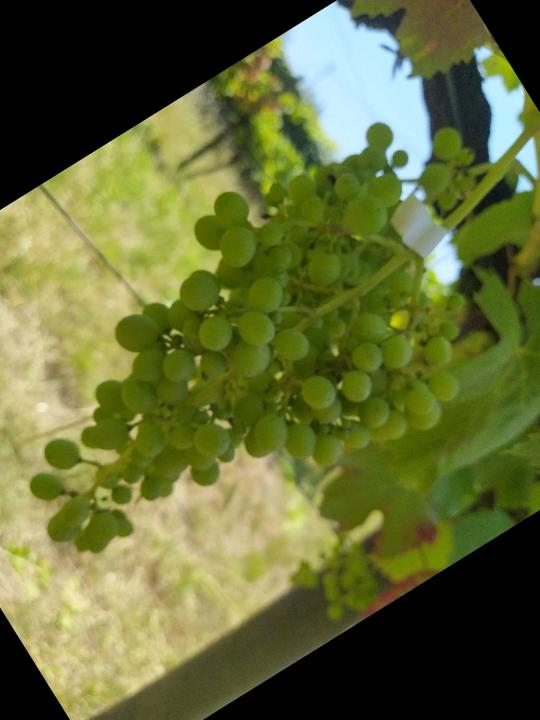grape: (0, 95, 540, 637)
